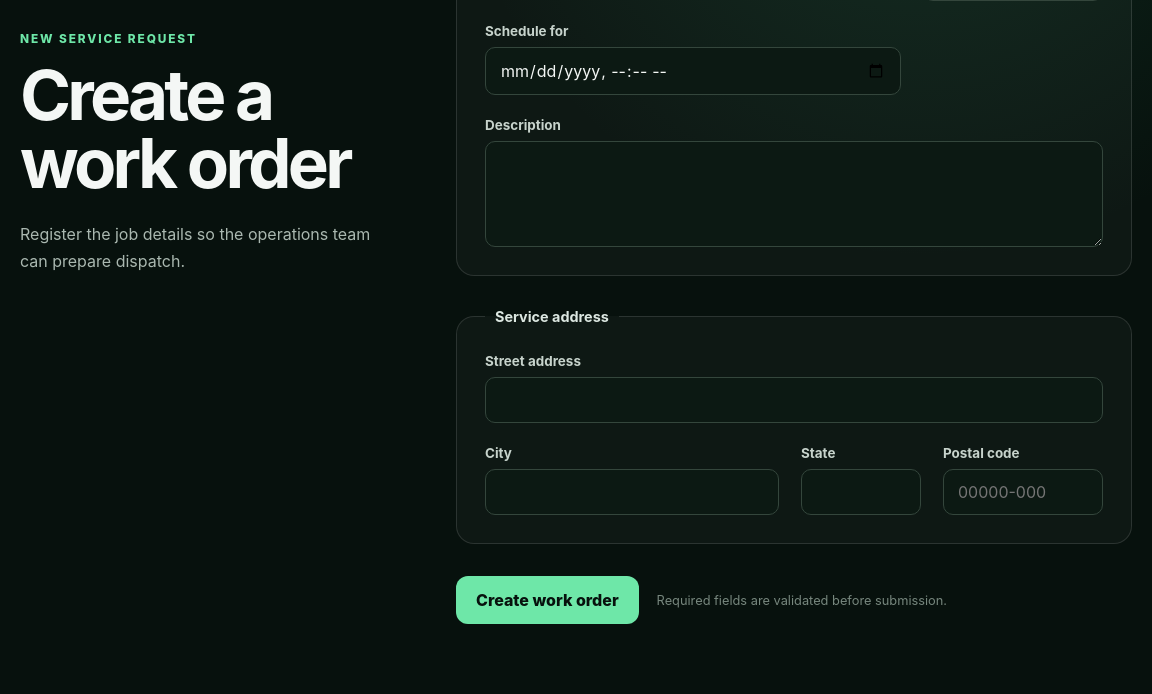
it: App › shows accessible field errors and focuses the first invalid field
(page scrolled)
Click the button "Create work order".
click(547, 600)  # box [456,576,639,624]
(page scrolled)
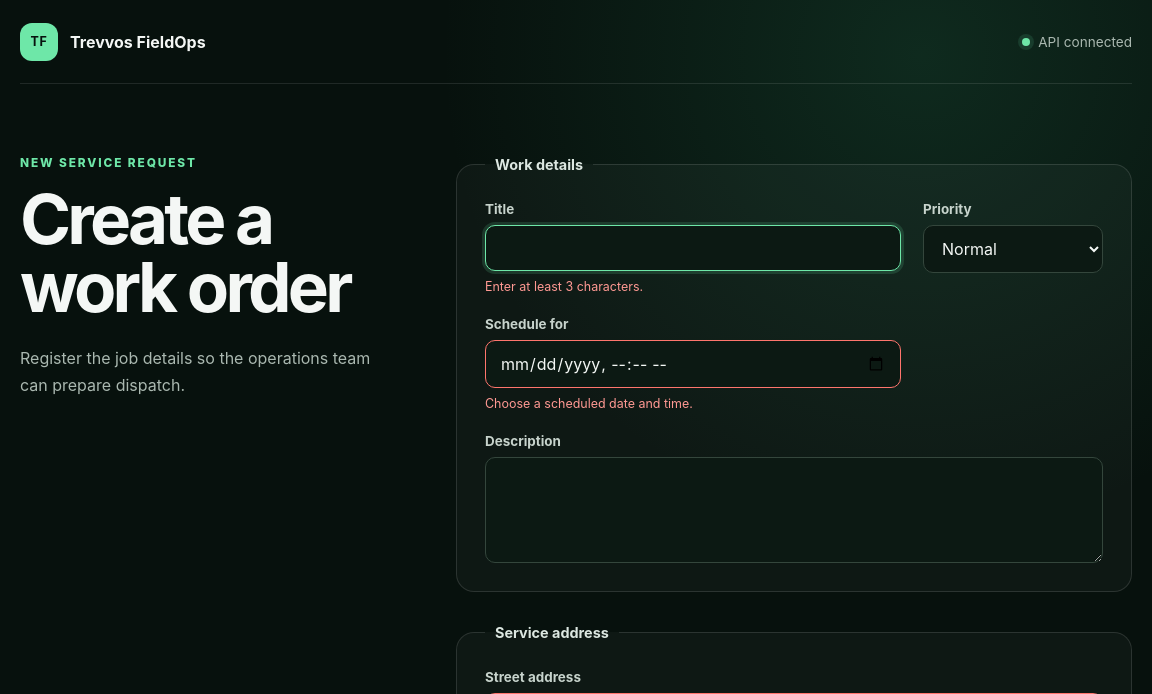
Check: the text "Enter at least 3 characters." is shown, box [485,279,643,294]
